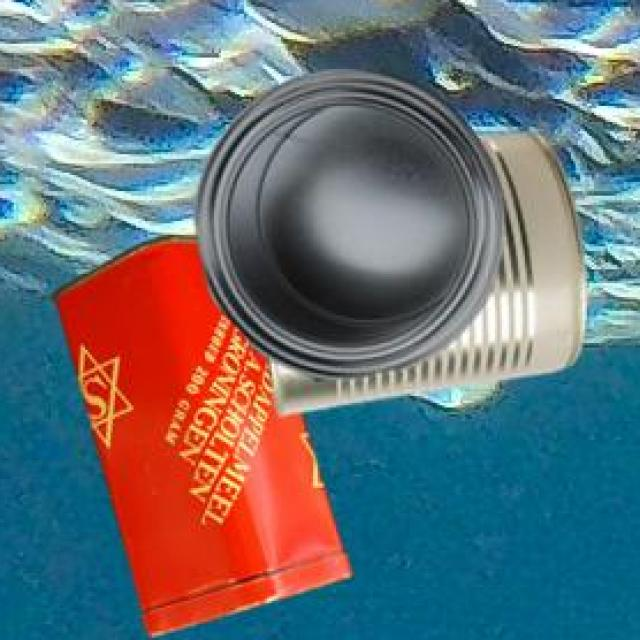logam: (56, 238, 356, 639), (197, 73, 508, 386), (274, 137, 591, 418)
